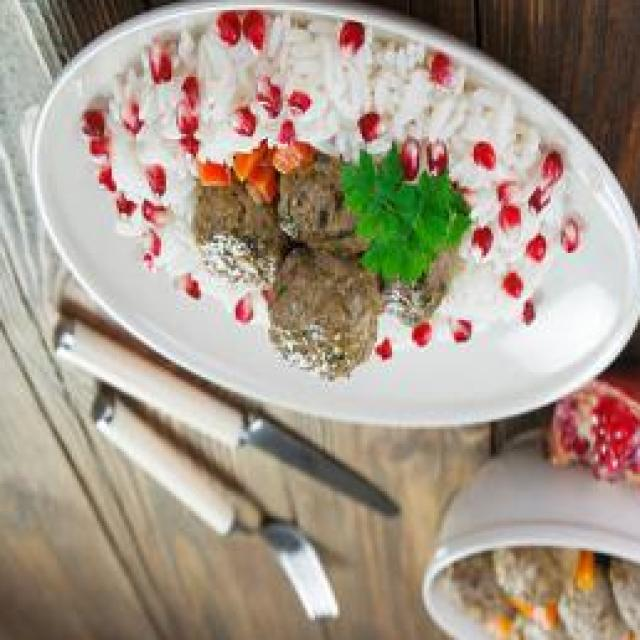knife: (56, 312, 404, 524)
